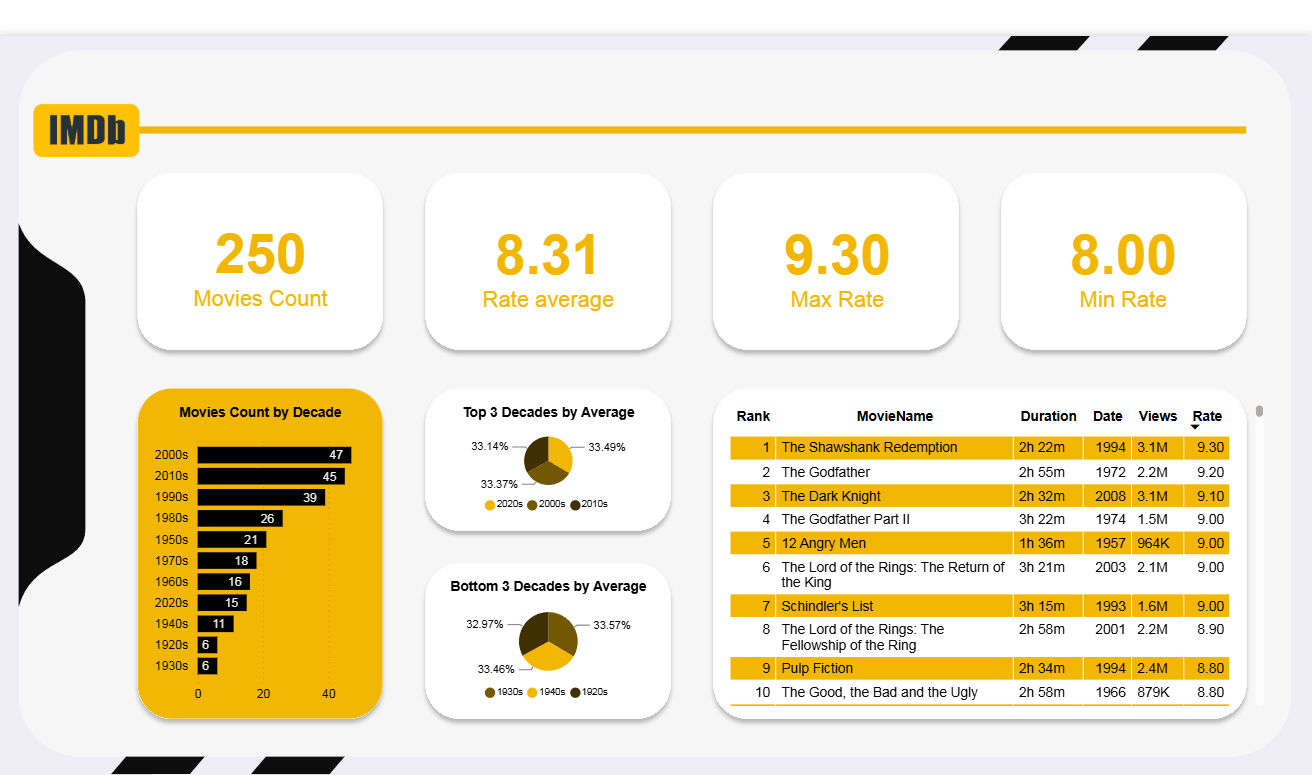

The dashboard page shown, as its layout file describes it:
{"tool":"powerbi","page":{"name":"Overview","canvas":[1280,720],"ordinal":0},"visuals":[{"type":"image","box":[20,23,133,133],"z":0},{"type":"card","title":"Number of Movies","fields":{"Values":["Top 250 imdb Movie.Movies Count"]},"box":[136,133,240,173],"z":1000},{"type":"card","title":"Number of Movies","fields":{"Values":["Top 250 imdb Movie.Rate average"]},"box":[416,134,240,173],"z":2000},{"type":"card","title":"Number of Movies","fields":{"Values":["Top 250 imdb Movie.Max Rate"]},"box":[697,134,240,173],"z":3000},{"type":"card","title":"Number of Movies","fields":{"Values":["Top 250 imdb Movie.Min Rate"]},"box":[976,134,240,173],"z":4000},{"type":"tableEx","fields":{"Values":["Top 250 imdb Movie.Rank","Top 250 imdb Movie.MovieName","Top 250 imdb Movie.Duration","Top 250 imdb Movie.Date","Top 250 imdb Movie.Views","Top 250 imdb Movie.Rate"]},"box":[697,343,550,323],"z":5000},{"type":"barChart","fields":{"Category":["Top 250 imdb Movie.Decade"],"Y":["Top 250 imdb Movie.Movies Count"]},"box":[136,343,240,323],"z":6000},{"type":"pieChart","title":"Top 3 Decades by Average","fields":{"Category":["Top 250 imdb Movie.Decade"],"Y":["Top 250 imdb Movie.Rate average"]},"box":[416,343,240,140],"z":7000},{"type":"pieChart","title":"Bottom 3 Decades by Average","fields":{"Category":["Top 250 imdb Movie.Decade"],"Y":["Top 250 imdb Movie.Rate average"]},"box":[416,513,240,153],"z":8000}]}

Visuals, with their boxes on the page's 1280x720 design canvas (x1, y1, x2, y2). These are canvas units, not pixel positions in the 1312x775 screenshot, which may show the page scaled, cropped or inside an application window:
image: <box>20,23,153,156</box>
"Number of Movies" card: <box>136,133,376,306</box>
"Number of Movies" card: <box>416,134,656,307</box>
"Number of Movies" card: <box>697,134,937,307</box>
"Number of Movies" card: <box>976,134,1216,307</box>
tableEx - Top 250 imdb Movie.Rank x Top 250 imdb Movie.MovieName: <box>697,343,1247,666</box>
barChart - Top 250 imdb Movie.Decade x Top 250 imdb Movie.Movies Count: <box>136,343,376,666</box>
"Top 3 Decades by Average" pieChart: <box>416,343,656,483</box>
"Bottom 3 Decades by Average" pieChart: <box>416,513,656,666</box>
